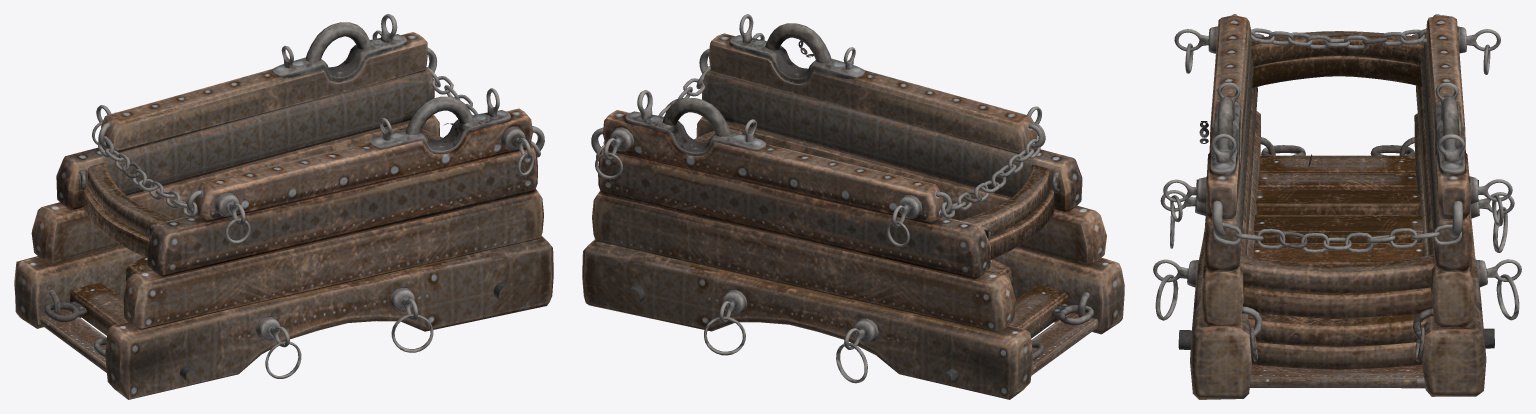
The model's file is cannon_chassis.glb.
The picture shows the model from 3 angles, left to right: view 1: azimuth 30°, elevation 25°; view 2: azimuth 150°, elevation 25°; view 3: azimuth 270°, elevation 25°; orthographic projection. The views are drawn at different scales.
Visible parts, largest first — view 1: cannon_cannons_0; view 2: cannon_cannons_0; view 3: cannon_cannons_0.
Part boxes in pixels (x1=…): cannon_cannons_0: x1=14, y1=14, x2=553, y2=399; cannon_cannons_0: x1=582, y1=14, x2=1124, y2=399; cannon_cannons_0: x1=1153, y1=14, x2=1521, y2=399.
Size of the model in its own units: 2.46 by 1.23 by 1.66.
Materials: 1 (1 with a texture image).
